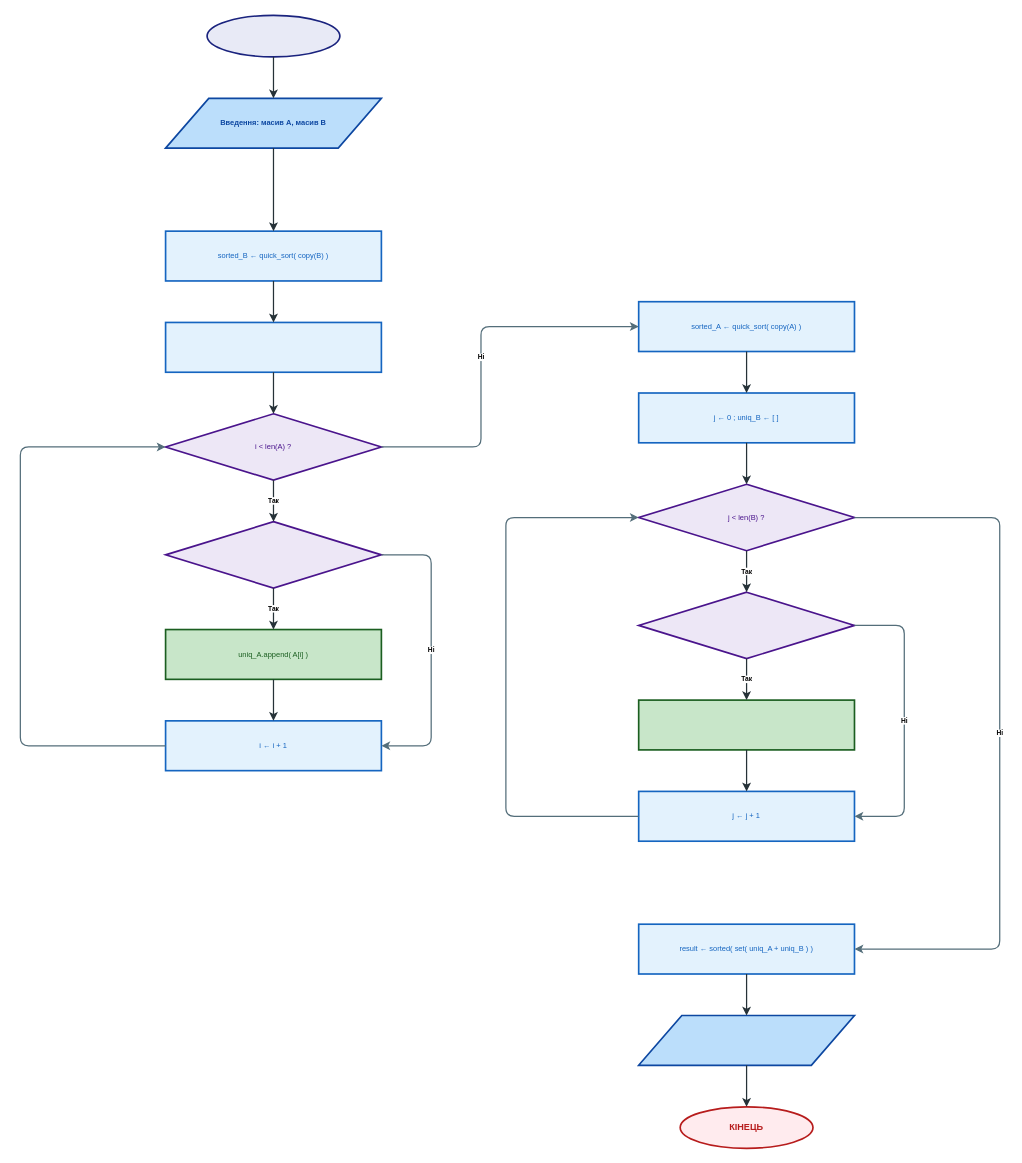
Image size: 1022x1163. Some labels were removed from this diagram. The shapes that lost their labels are listed below. From the top down, each one's box as (x1, y1, x2, y2) in pixels, then its label:
(206, 14, 340, 57): ПОЧАТОК
(164, 321, 382, 373): i ← 0 ; uniq_A ← [ ]
(164, 520, 382, 588): interpolation_search ( sorted_B, A[i] ) = −1 ?
(637, 591, 855, 659): interpolation_search ( sorted_A, B[j] ) = −1 ?
(637, 699, 855, 750): uniq_B.append( B[j] )
(637, 1014, 855, 1066): Виведення: result ( A △ B )
